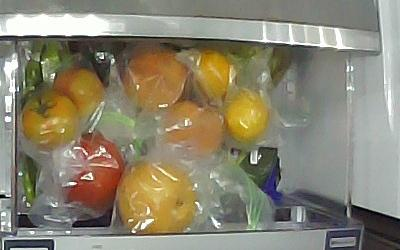peach_vinyl: (123, 47, 185, 108), (161, 100, 227, 152)
pear_vinyl: (115, 160, 199, 236)
tangerine_vinyl: (186, 48, 238, 104), (223, 87, 269, 144)
tomato_vinyl: (60, 135, 126, 213), (21, 89, 80, 149), (53, 65, 106, 120)
